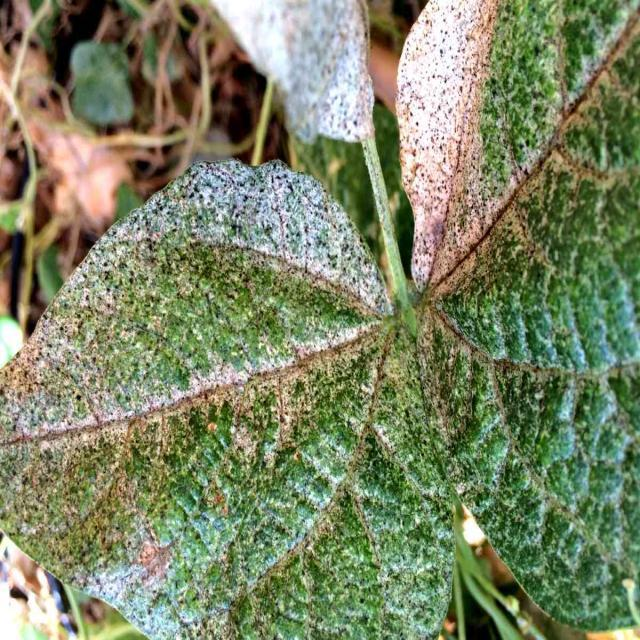Thrips: (9, 192, 460, 632), (309, 18, 639, 595)
